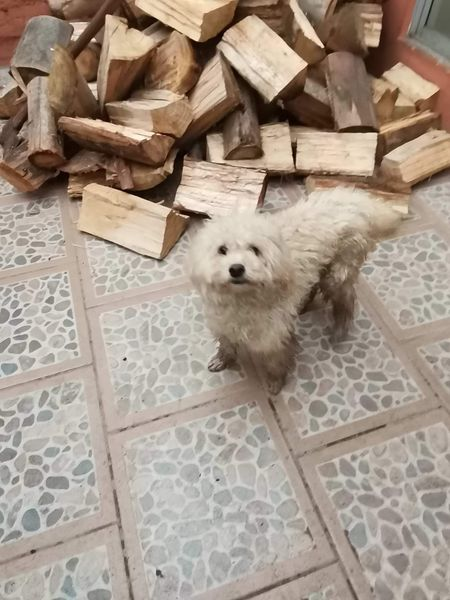dog: (167, 172, 404, 399)
